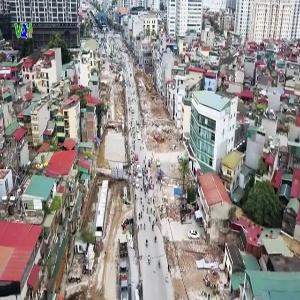drone: (199, 30, 265, 96)
